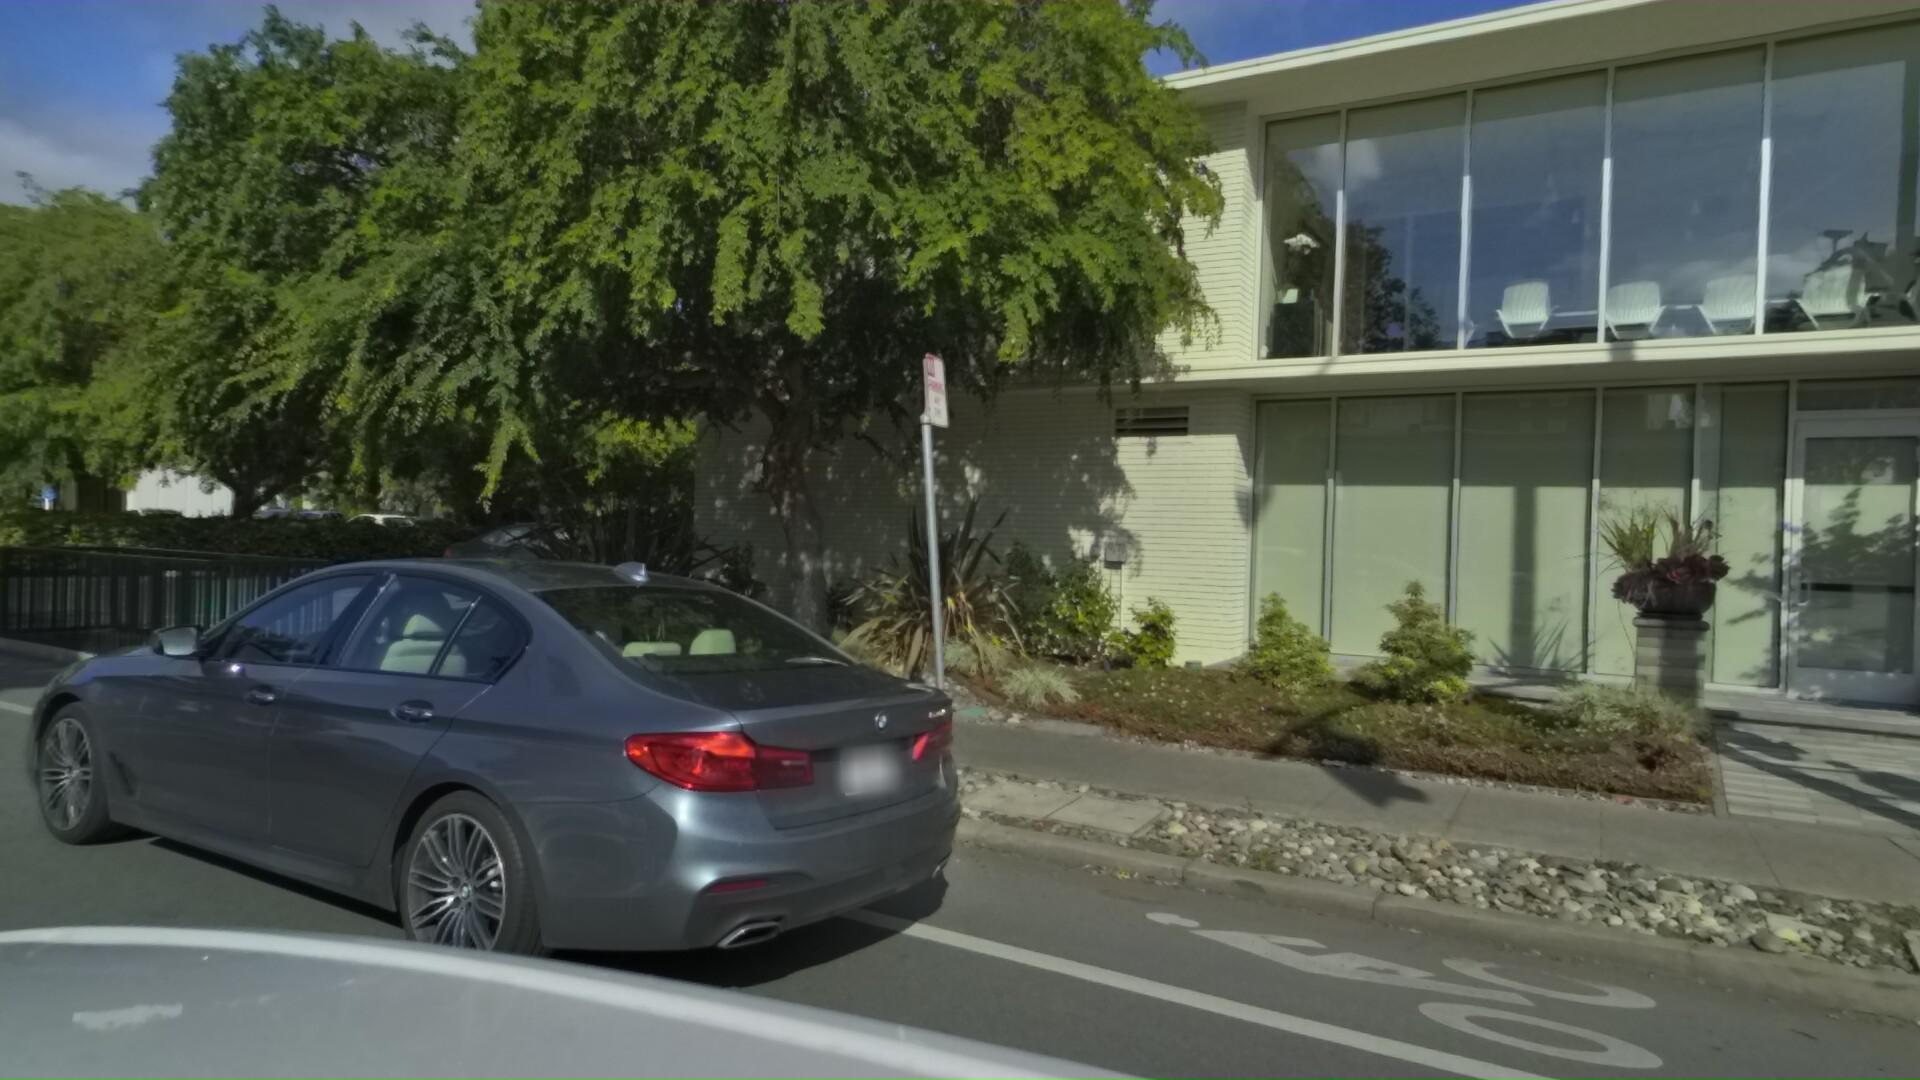car: (0, 509, 948, 1080), (425, 505, 707, 607)
